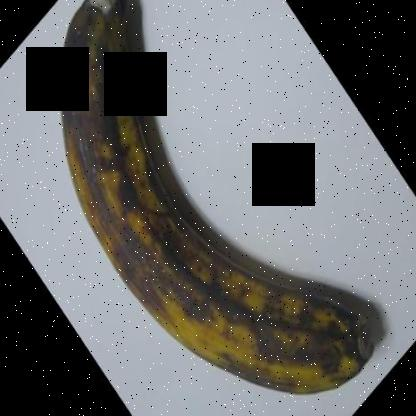overripe: (46, 1, 383, 407)
